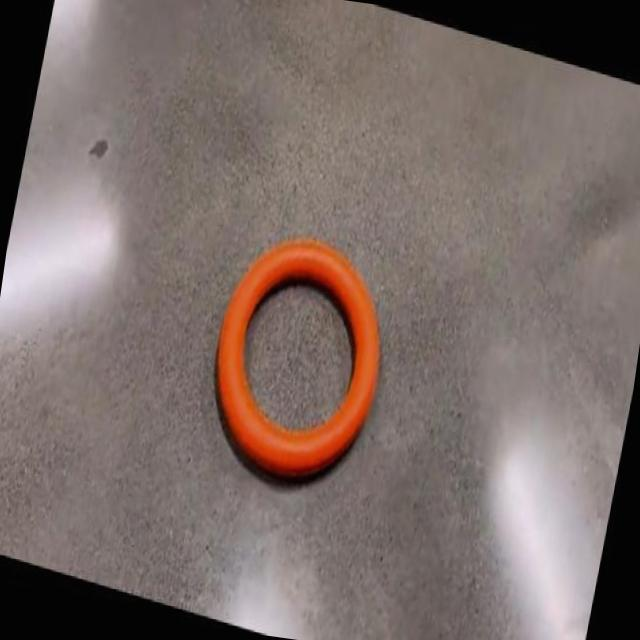note: (217, 241, 380, 477)
